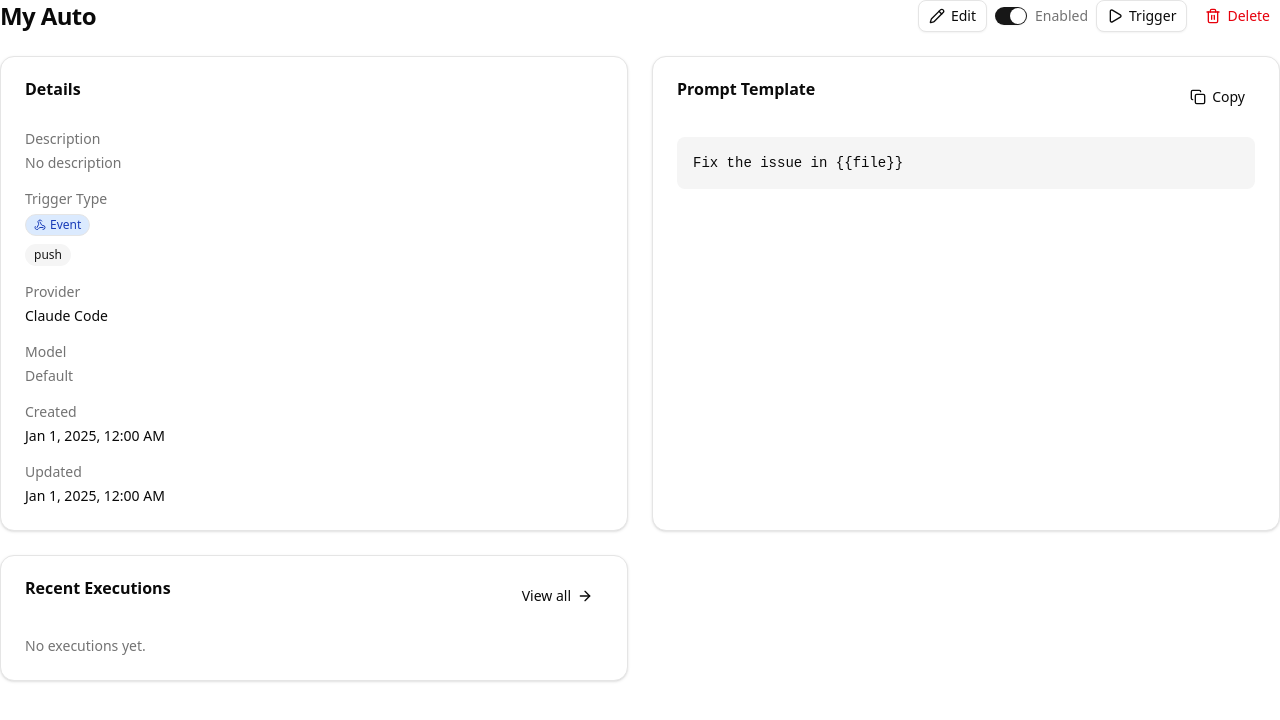
Scenario: AutomationDetailPage › should open disable dialog when toggling an enabled automation
The width and height of the screenshot is (1280, 720).
Expected: the heading "My Auto" is shown, [0,0,96,32]
Step 1. Click the switch named "disable automation" → click(1011, 16), box [995,7,1027,25]
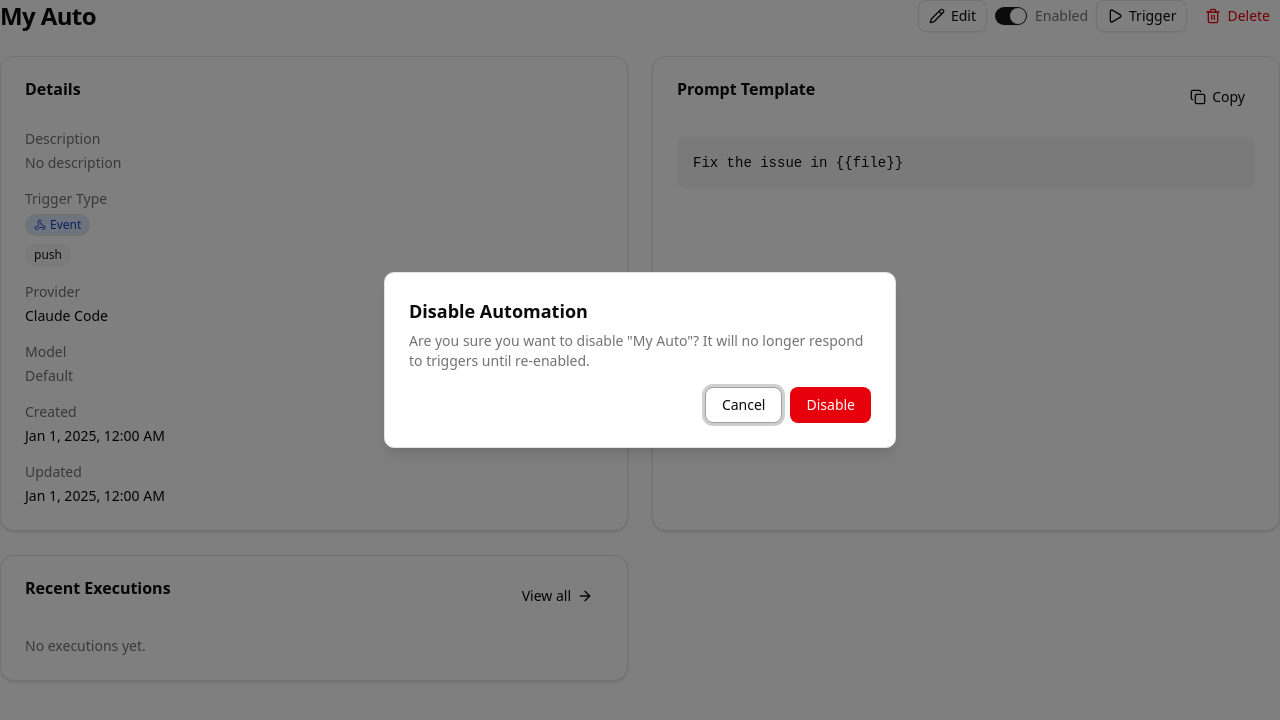
Now the heading "Disable Automation" is shown, box [409,297,588,325]
Now the text "Are you sure you want to disable" is shown, box [409,331,864,370]
